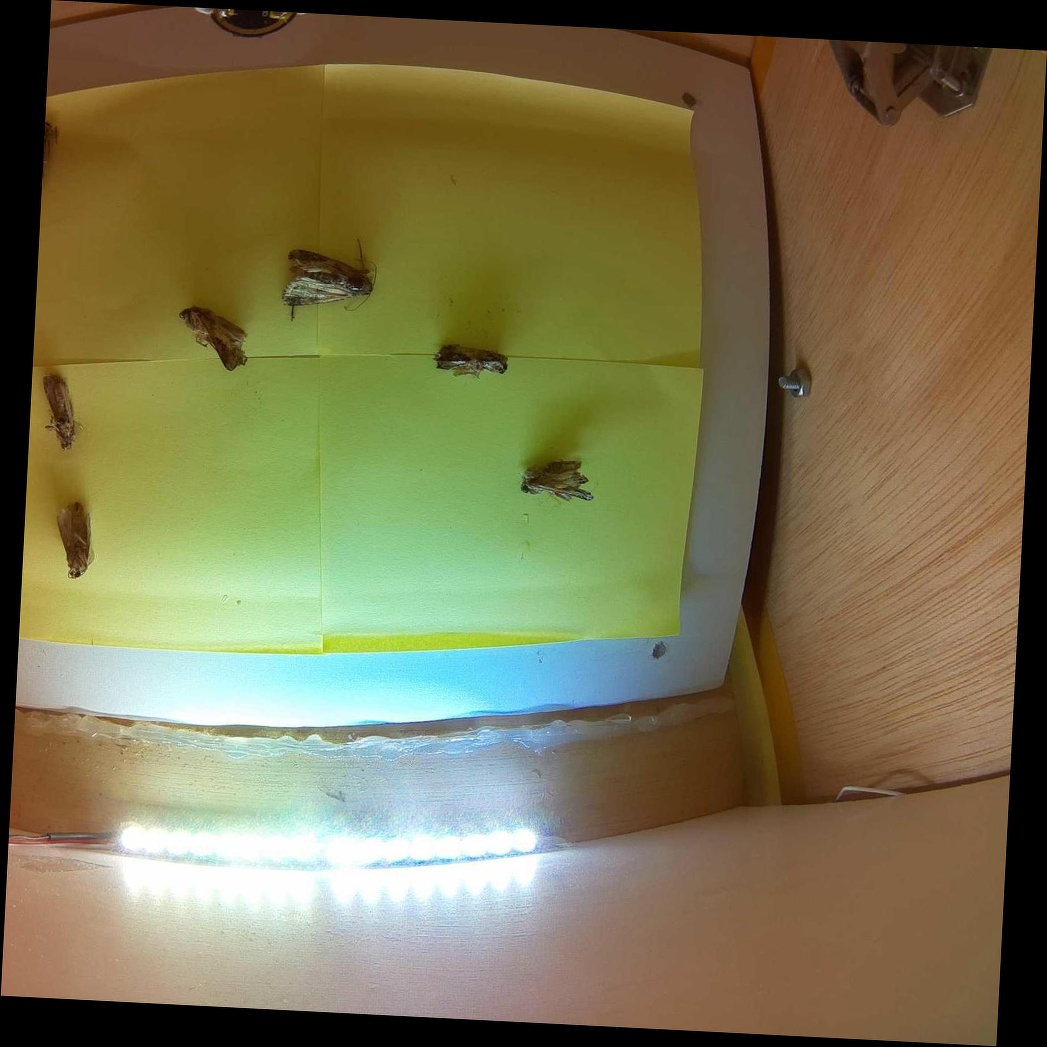Spodoptera litura: (282, 238, 378, 323), (178, 309, 251, 371), (519, 460, 594, 503), (52, 501, 93, 579), (41, 373, 79, 452), (433, 347, 508, 378)
